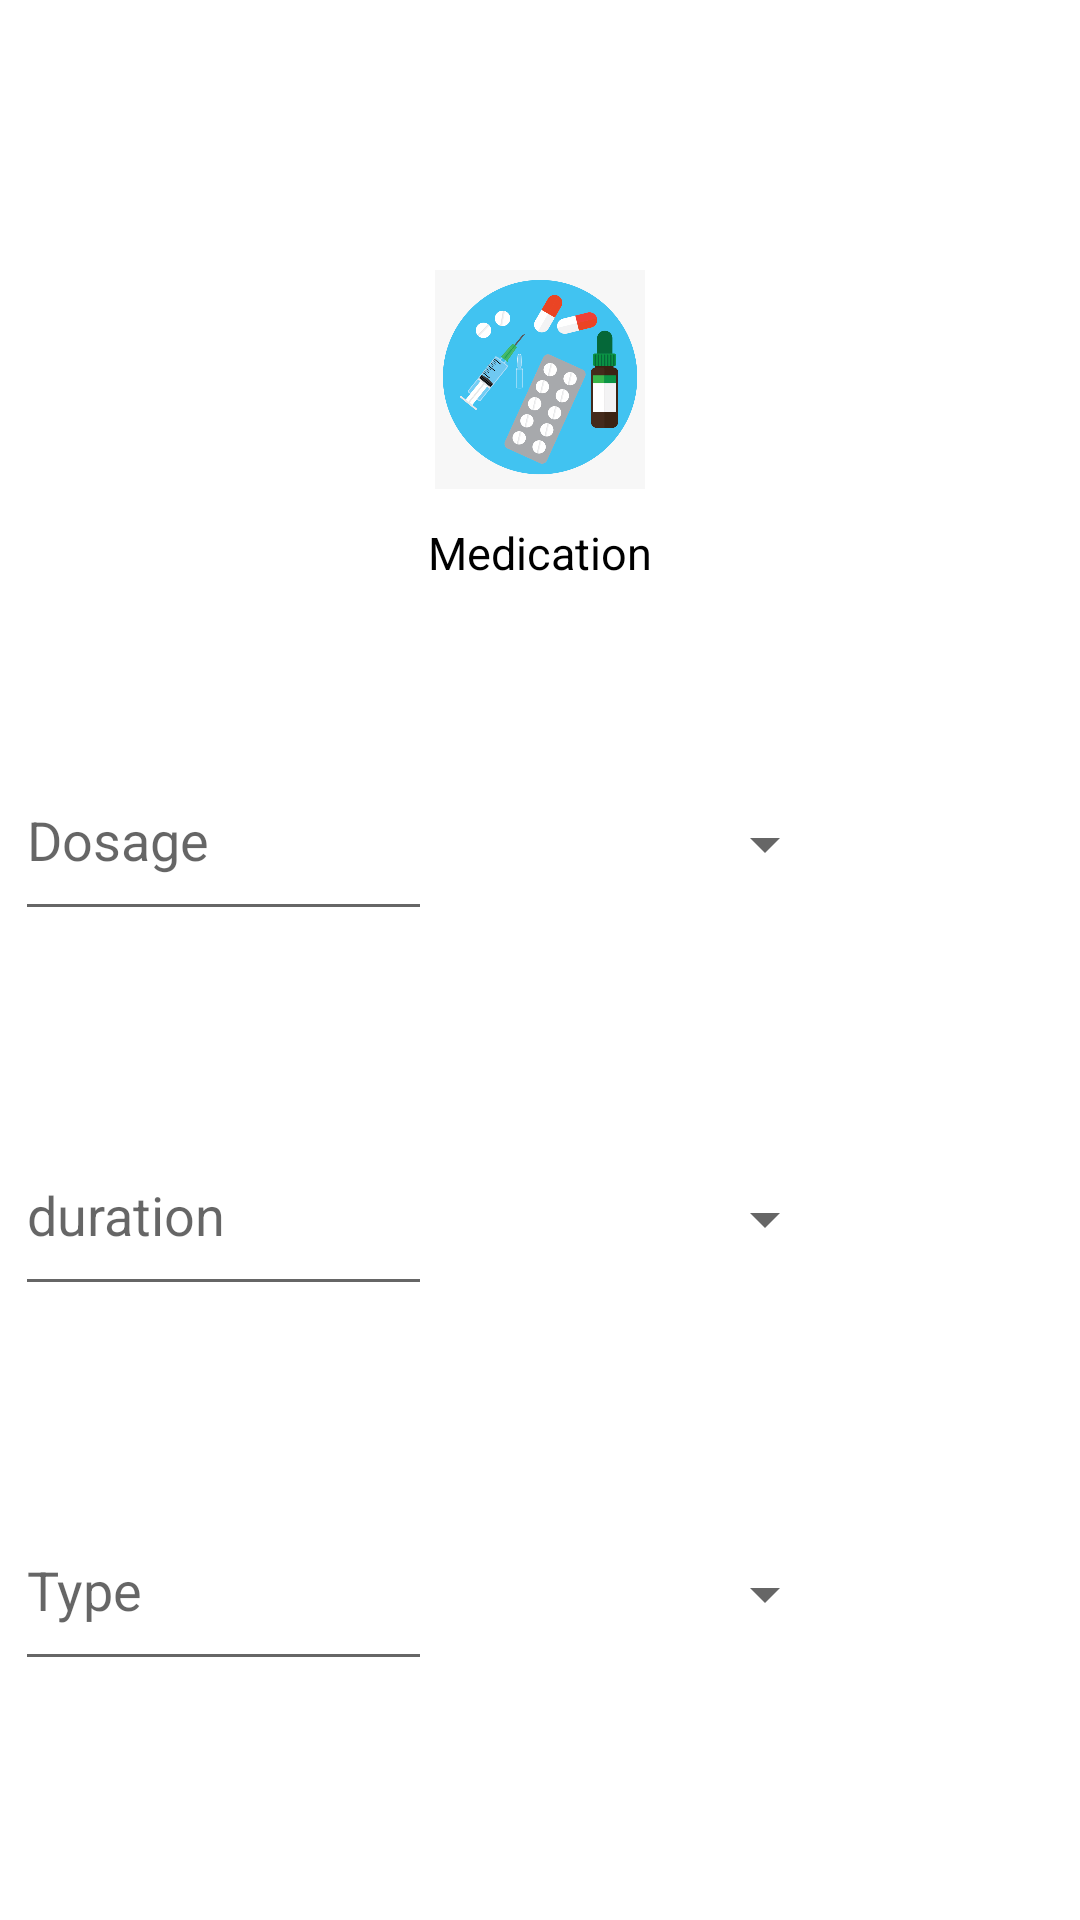

Locate icon controls on the screen. Image size 1080px×1920px, boxes as {"left": x1, "top": y1, "right": x2, "bottom": y2}.
notifymed: {"left": 443, "top": 280, "right": 637, "bottom": 474}
